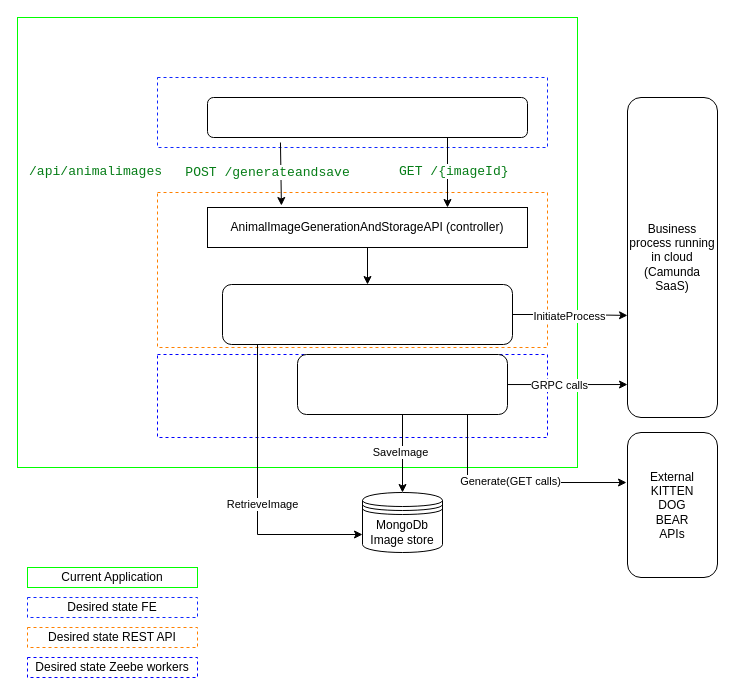
The diagram is 735 pixels wide and 695 high, and some of its shapes have lost their labels. The shapes that lost their labels are listed below. From the top down, each one's box as (x1, y1, x2, y2) in pixels, then its label:
(206, 96, 528, 138): Web Front end (single page application)
(222, 284, 512, 344): Rest request handler service
(296, 354, 508, 414): Zeebe client (workers)
